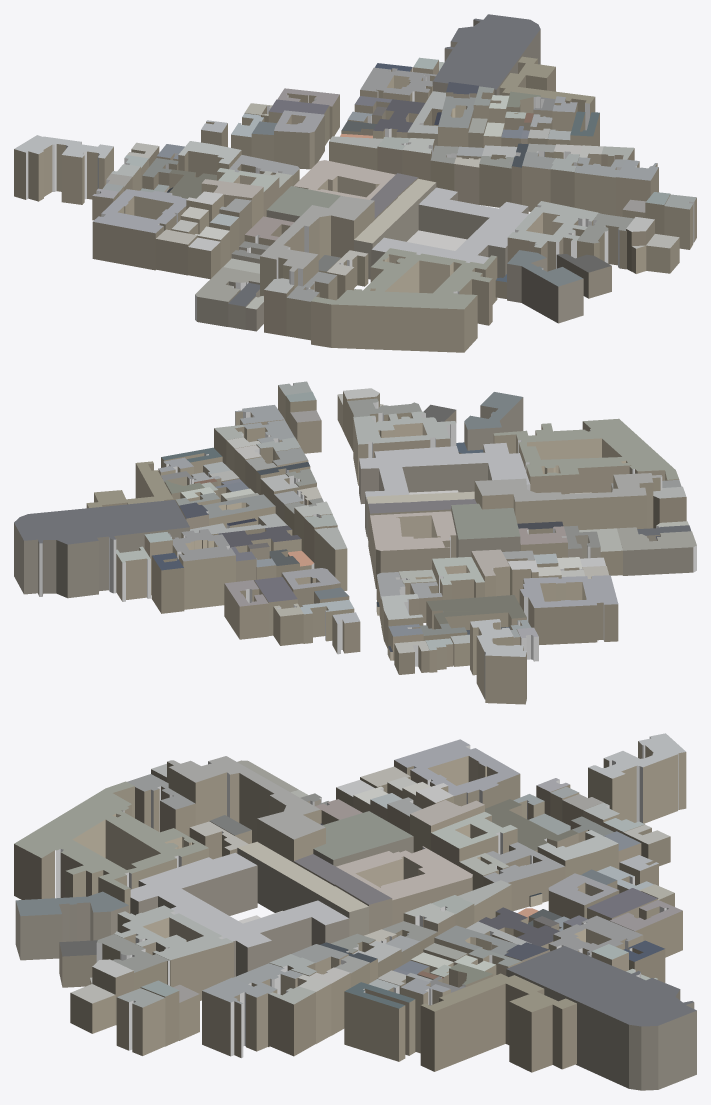
3 views of the same model, one above another, from view 1: azimuth 30°, elevation 25°; view 2: azimuth 150°, elevation 25°; view 3: azimuth 270°, elevation 25° (orthographic). The views are drawn at different scales.
Parts seen in each view (by area): view 1: tuile; view 2: tuile; view 3: tuile.
Boxes of the visible parts, <box> form: tuile: <box>14,14,696,352</box>; tuile: <box>14,381,696,704</box>; tuile: <box>14,733,696,1090</box>.
Bounding box in the file's own units: 305 × 35.7 × 289.
